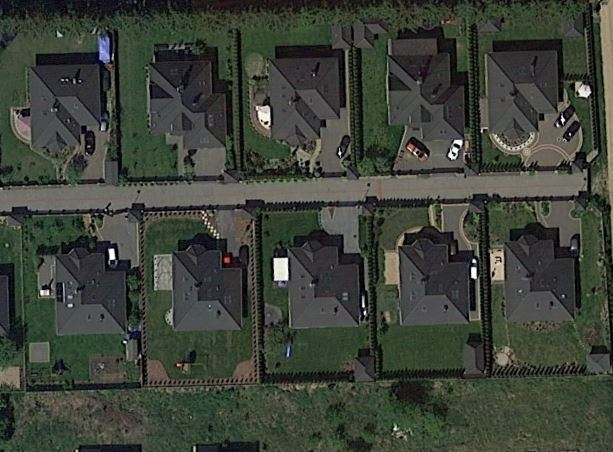family house: (380, 33, 468, 143), (143, 56, 230, 150), (266, 50, 346, 151), (282, 237, 365, 331), (483, 45, 563, 141), (50, 243, 130, 338), (501, 233, 580, 327), (395, 235, 474, 328), (27, 62, 105, 154), (170, 243, 245, 333)
